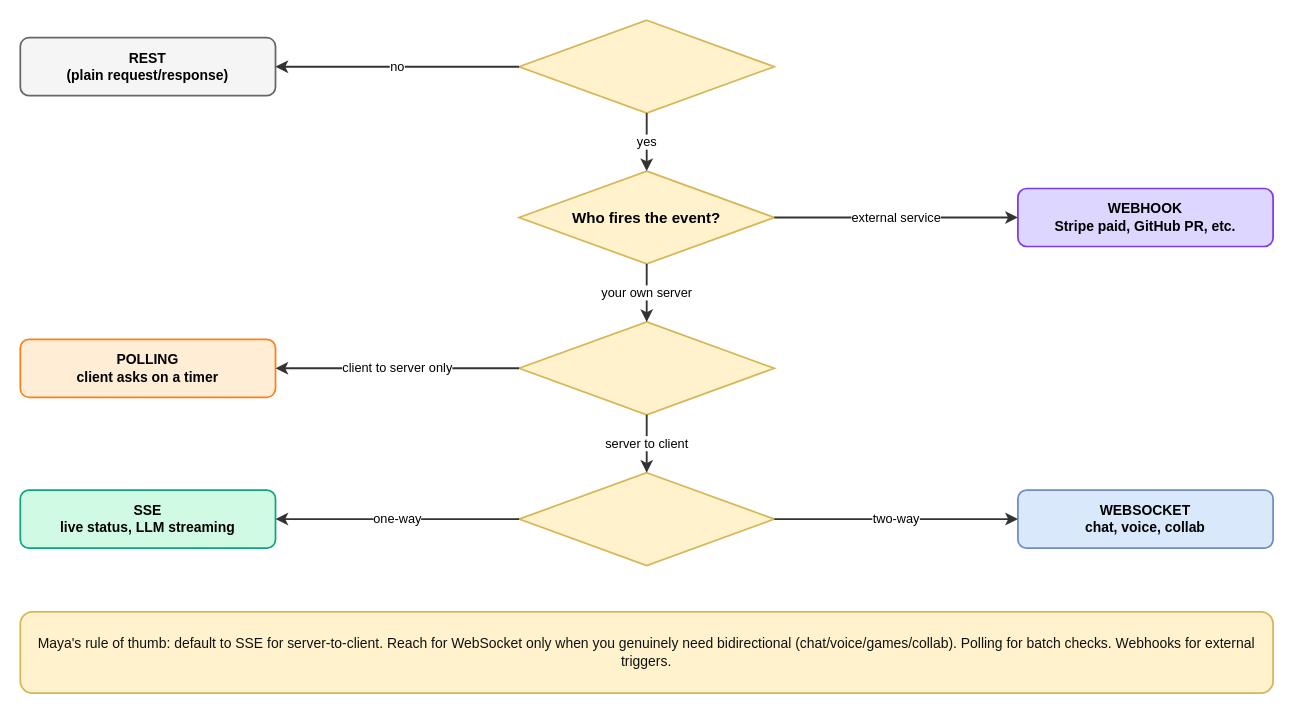
This 1295x715 diagram has some shape labels left out. The shapes that lost their labels are listed below. From the top down, each one's centre as x and y in pixels, then its label:
[646,66]: Does this feature need real-time updates?
[646,368]: Which way does data flow?
[646,518]: One-way push, or two-way chat?
